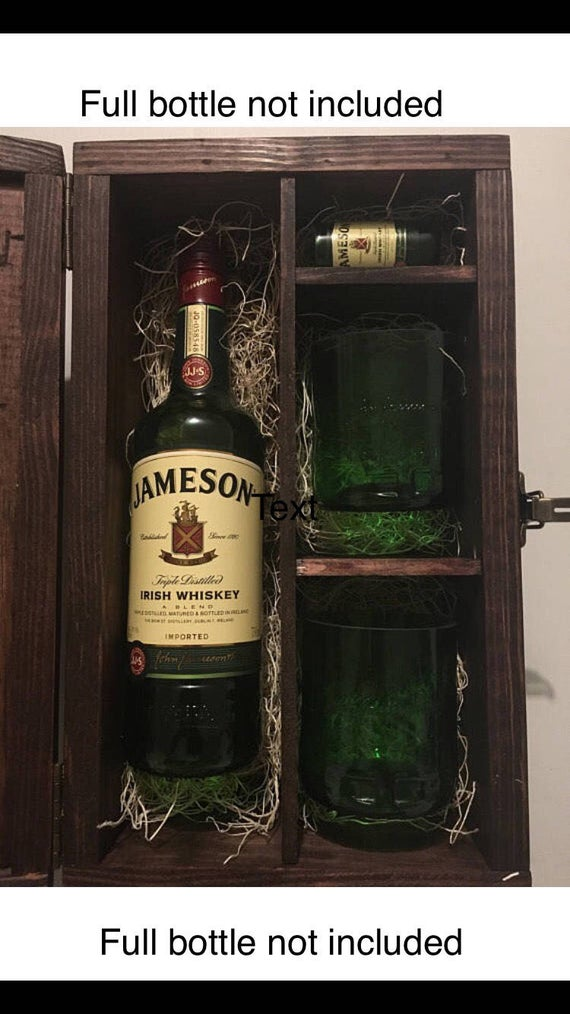Jameson: (115, 239, 271, 784)
